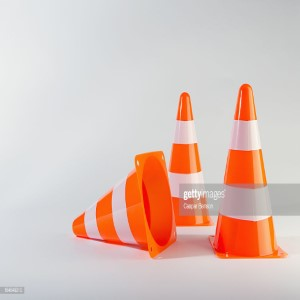traffic cone: (208, 84, 287, 259), (72, 150, 177, 259), (158, 92, 214, 227)
